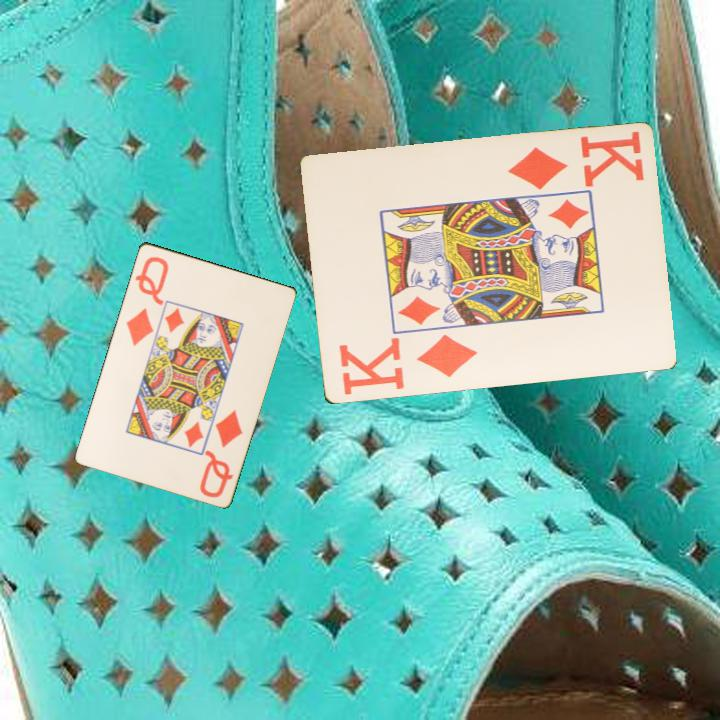Kd: (335, 331, 480, 398), (504, 127, 646, 193)
Qd: (122, 253, 171, 349), (196, 406, 246, 500)
